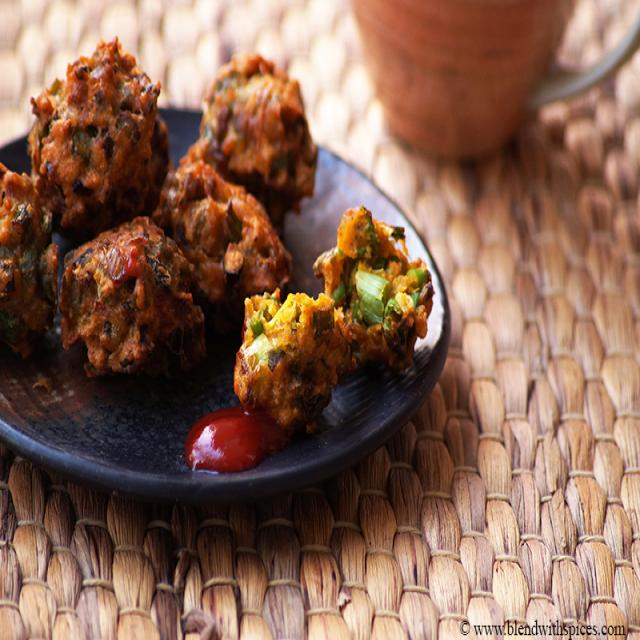BAJI: (151, 54, 323, 311), (23, 38, 175, 236), (51, 218, 216, 379), (315, 202, 433, 368), (229, 283, 362, 427), (0, 158, 73, 358)
